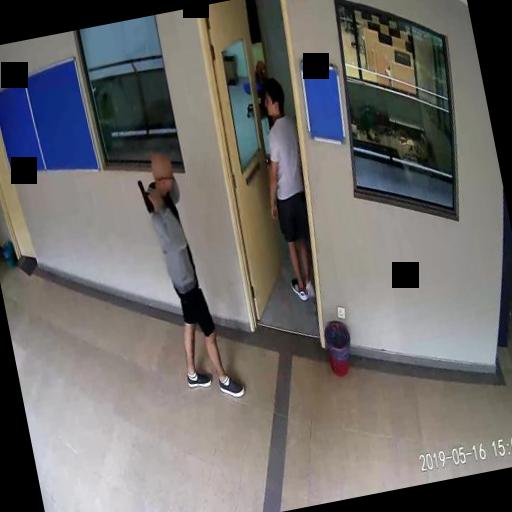Handgun: (136, 175, 160, 214)
